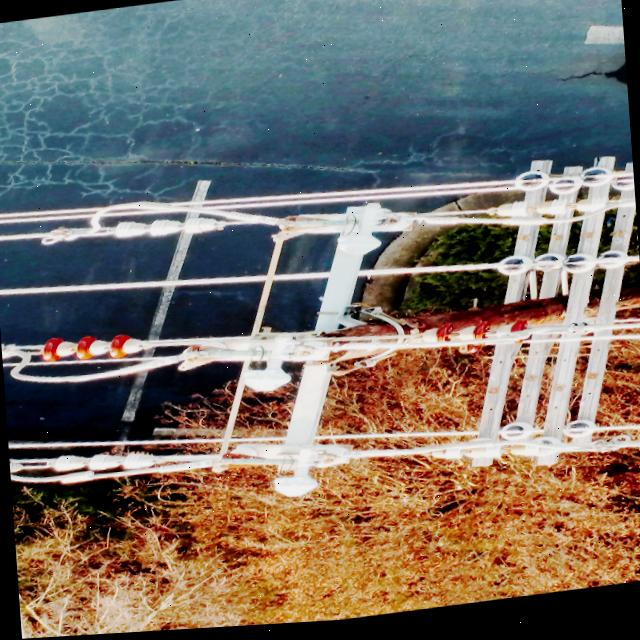poles: (29, 205, 640, 499)
wires: (0, 182, 525, 236), (0, 235, 331, 294), (337, 261, 504, 311), (399, 213, 605, 235), (62, 455, 211, 482), (8, 436, 286, 448), (9, 458, 61, 481), (0, 231, 70, 244), (372, 435, 476, 441)
